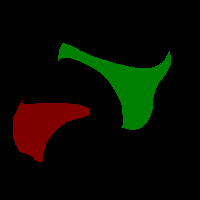mutande: (57, 42, 171, 130), (12, 98, 90, 162)
